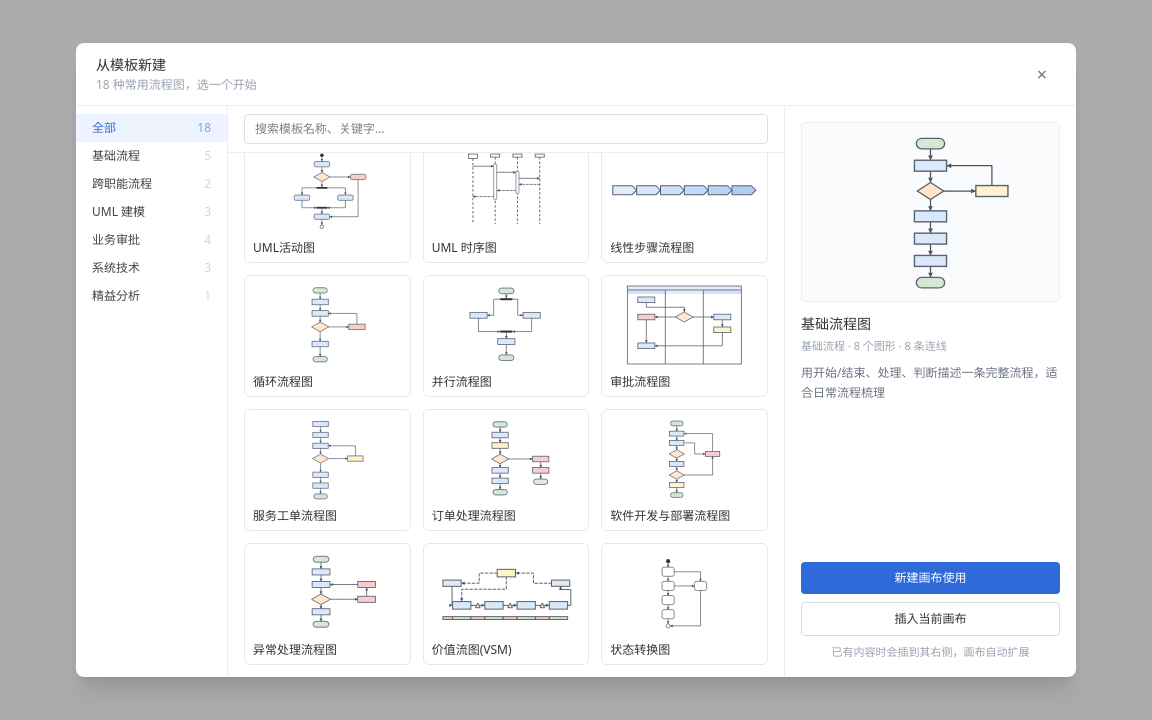
Test: TemplatePickerDialog › 点击卡片切换预览
(page scrolled)
Click the button "价值流图(VSM)" at {"x": 506, "y": 604}, box [423, 543, 589, 665]
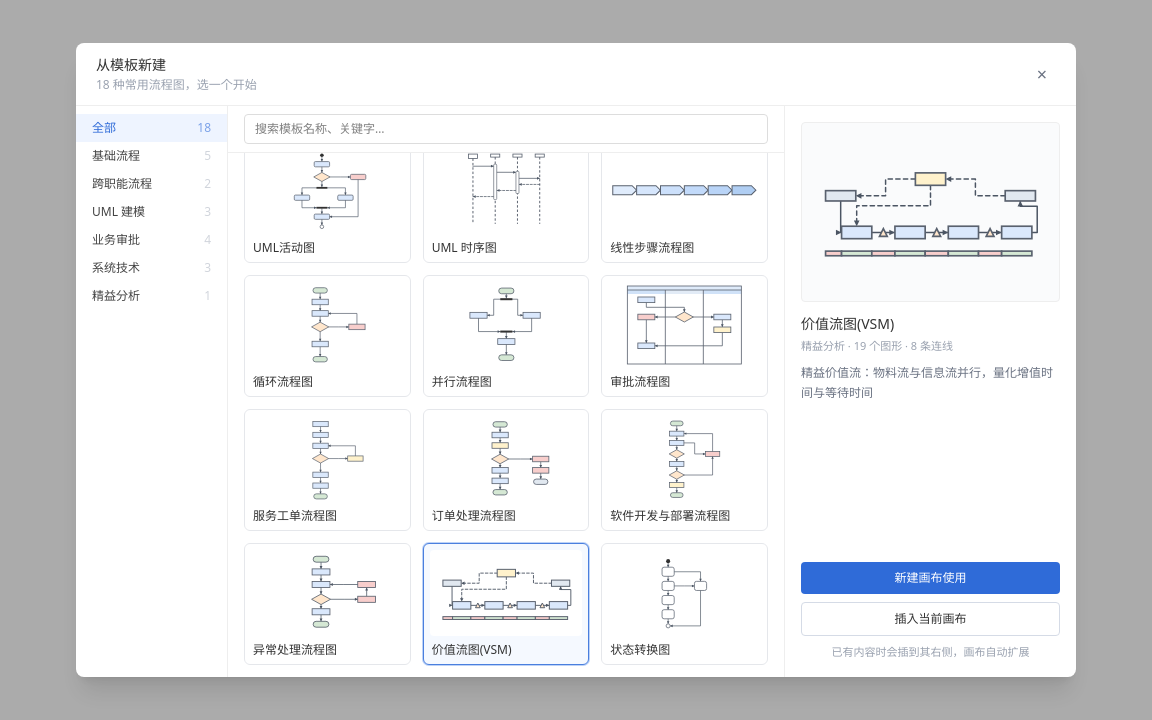
Expected: the 1st text "价值流图(VSM)" is shown, [801, 314, 894, 333]
